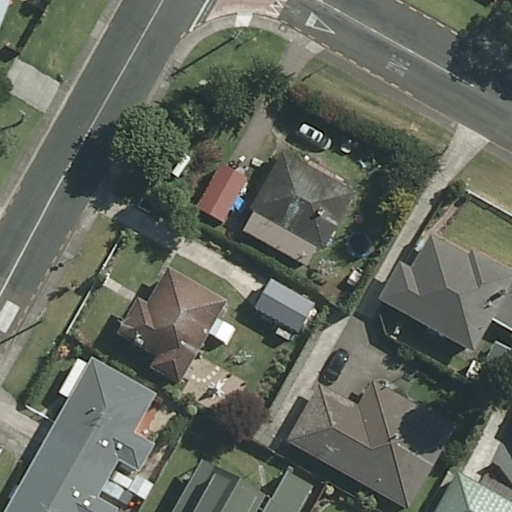DT: (35, 307, 50, 323)
